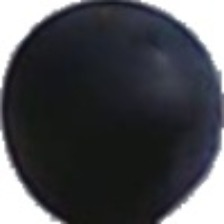grapes: (48, 26, 191, 176)
